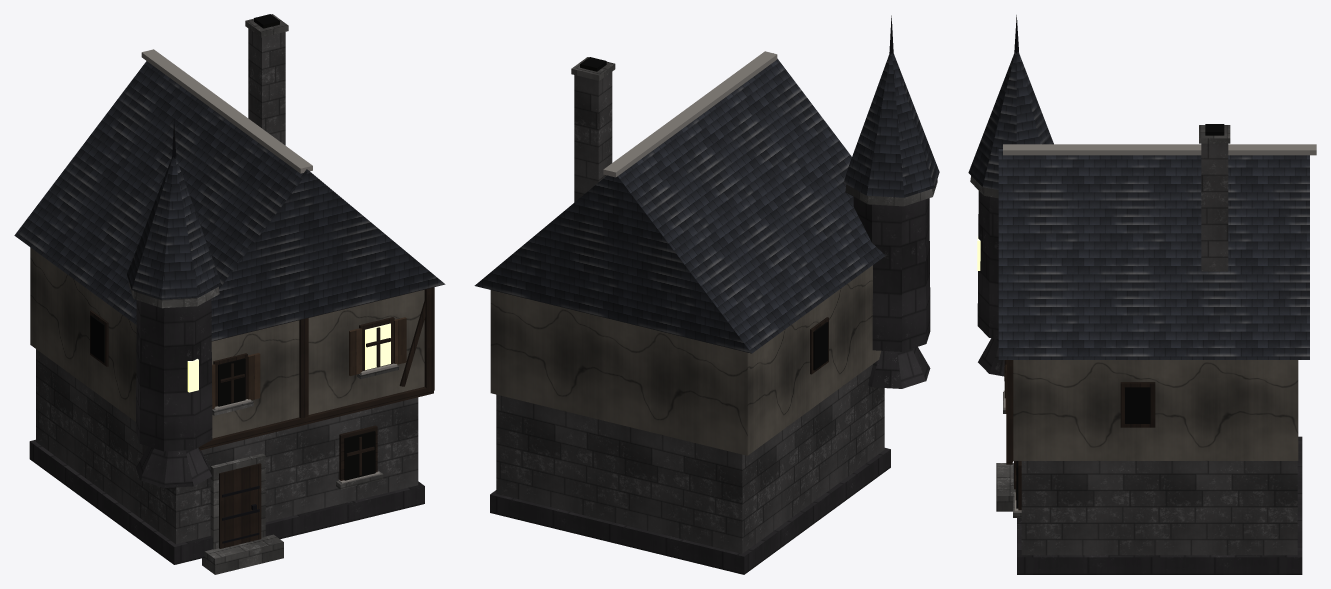
The model's file is CasaB01.gltf.
The picture shows the model from 3 angles, left to right: view 1: azimuth 30°, elevation 25°; view 2: azimuth 150°, elevation 25°; view 3: azimuth 270°, elevation 25°; orthographic projection. The views are drawn at different scales.
Visible parts, largest first — view 1: CasaB01; view 2: CasaB01; view 3: CasaB01.
Part boxes in pixels (x1,y1,x2,y2): CasaB01: (14,14,445,574); CasaB01: (474,15,939,574); CasaB01: (968,15,1316,574).
Size of the model in its own units: 9.59 by 13.71 by 9.62.
11 materials, 7 textured.
